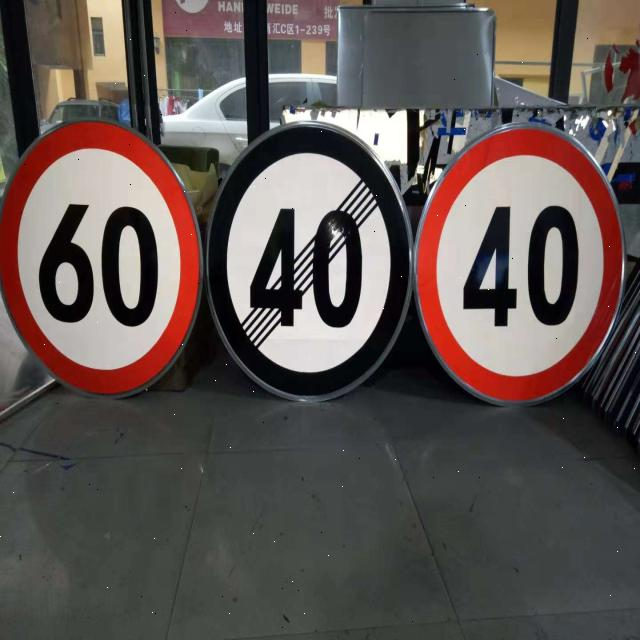speed limit 40: (412, 121, 626, 408)
speed limit 60: (1, 120, 202, 403)
